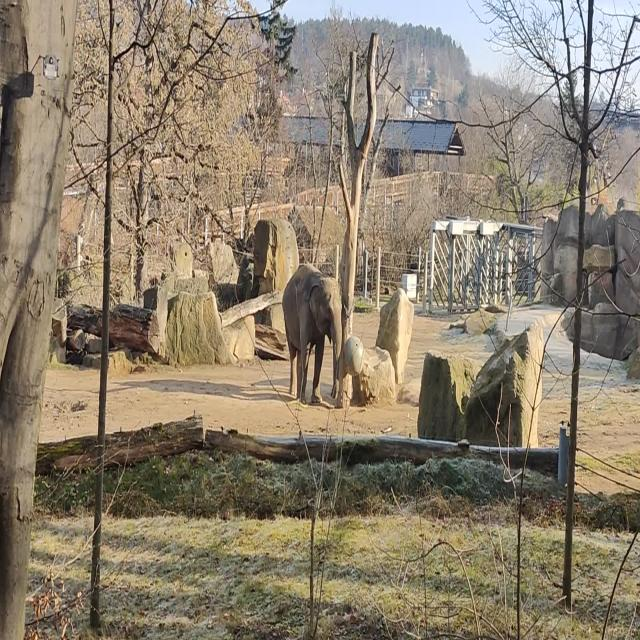elephant: (282, 264, 342, 404)
